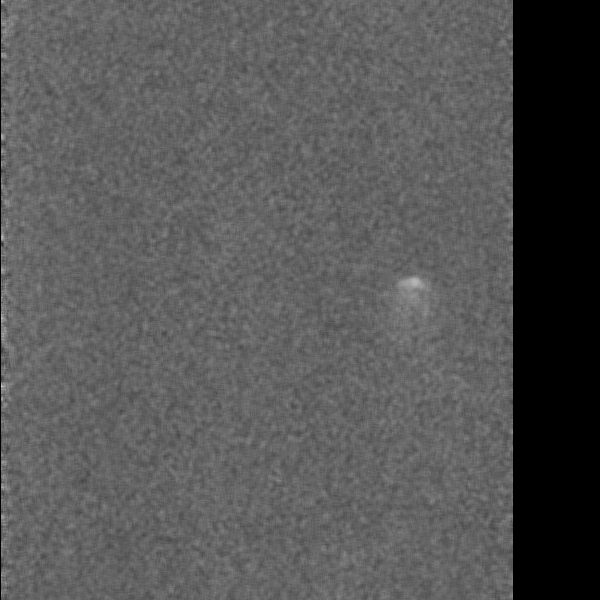spark: (396, 267, 430, 321)
